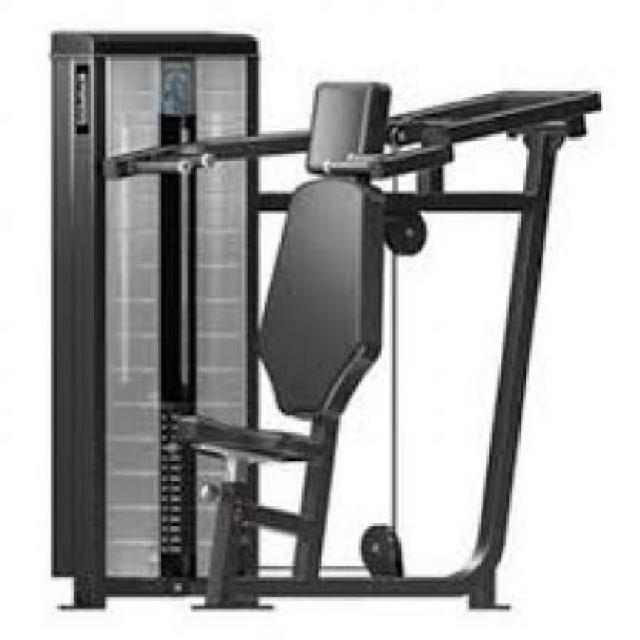shoulder press machine: (32, 19, 612, 623)
